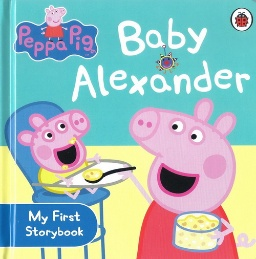Peppa: (114, 98, 253, 259)
